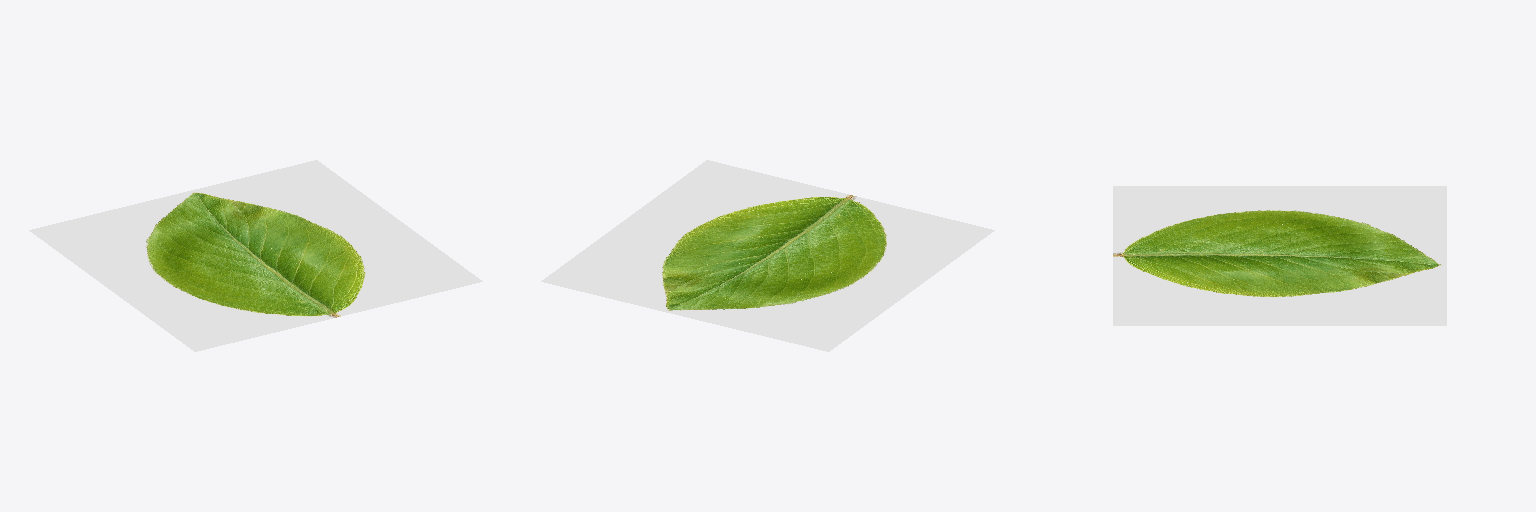
3 renders of one model, left to right at view 1: azimuth 30°, elevation 25°; view 2: azimuth 150°, elevation 25°; view 3: azimuth 270°, elevation 25°, orthographic.
Visible parts, largest first — view 1: scene05_leaf:pPlane1; view 2: scene05_leaf:pPlane1; view 3: scene05_leaf:pPlane1.
Part boxes in pixels (left/top/right/bottom): scene05_leaf:pPlane1: left=29, top=160, right=482, bottom=351; scene05_leaf:pPlane1: left=541, top=160, right=994, bottom=351; scene05_leaf:pPlane1: left=1113, top=186, right=1446, bottom=325.
Bounding box in the file's own units: 2.86 × 0 × 2.86.
1 materials, 1 textured.